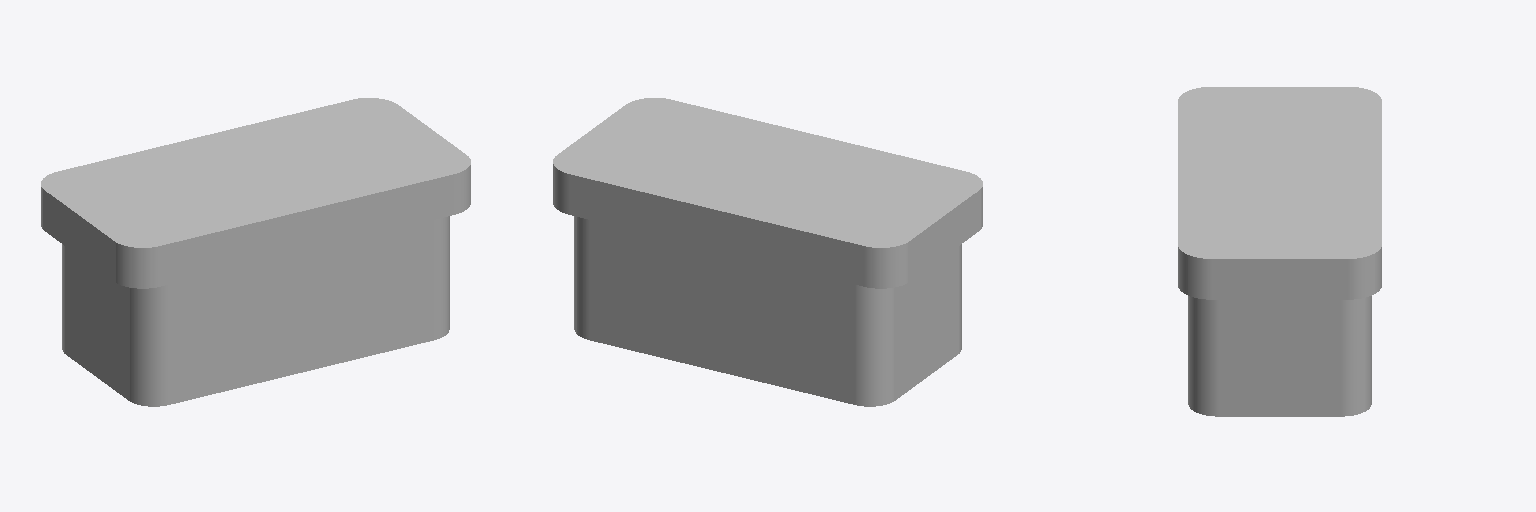
The model's file is 29x57mmRect.obj.
The picture shows the model from 3 angles: view 1: azimuth 30°, elevation 25°; view 2: azimuth 150°, elevation 25°; view 3: azimuth 270°, elevation 25°; orthographic projection.
Visible parts, largest first — view 1: 29x57mmRect.001, 29x57mmRect.002; view 2: 29x57mmRect.001, 29x57mmRect.002; view 3: 29x57mmRect.001, 29x57mmRect.002.
Boxes of the visible parts, x1=… form: 29x57mmRect.001: x1=41, y1=98, x2=470, y2=288; 29x57mmRect.002: x1=62, y1=216, x2=449, y2=406; 29x57mmRect.001: x1=553, y1=98, x2=982, y2=288; 29x57mmRect.002: x1=574, y1=216, x2=961, y2=406; 29x57mmRect.001: x1=1178, y1=87, x2=1381, y2=299; 29x57mmRect.002: x1=1188, y1=296, x2=1371, y2=416.
Size of the model in its own units: 57.15 by 25.72 by 28.57.